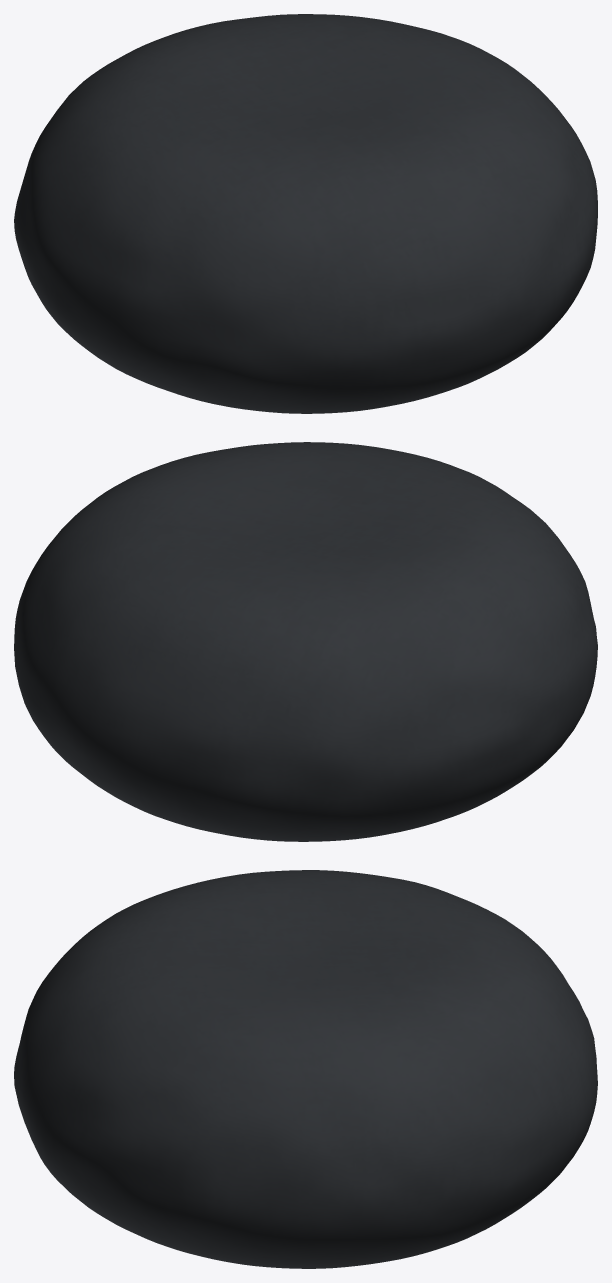
The model's file is classic-charcoal.glb.
3 views of the same model, one above another, from view 1: azimuth 30°, elevation 25°; view 2: azimuth 150°, elevation 25°; view 3: azimuth 270°, elevation 25° (orthographic).
Visible parts, largest first — view 1: fabric_primary; view 2: fabric_primary; view 3: fabric_primary.
Part boxes in pixels (left/top/right/bottom): fabric_primary: left=14, top=14, right=597, bottom=413; fabric_primary: left=14, top=442, right=597, bottom=841; fabric_primary: left=14, top=870, right=597, bottom=1268.
Size of the model in its own units: 0.9585 by 0.4984 by 0.9605.
1 material, 1 textured.
